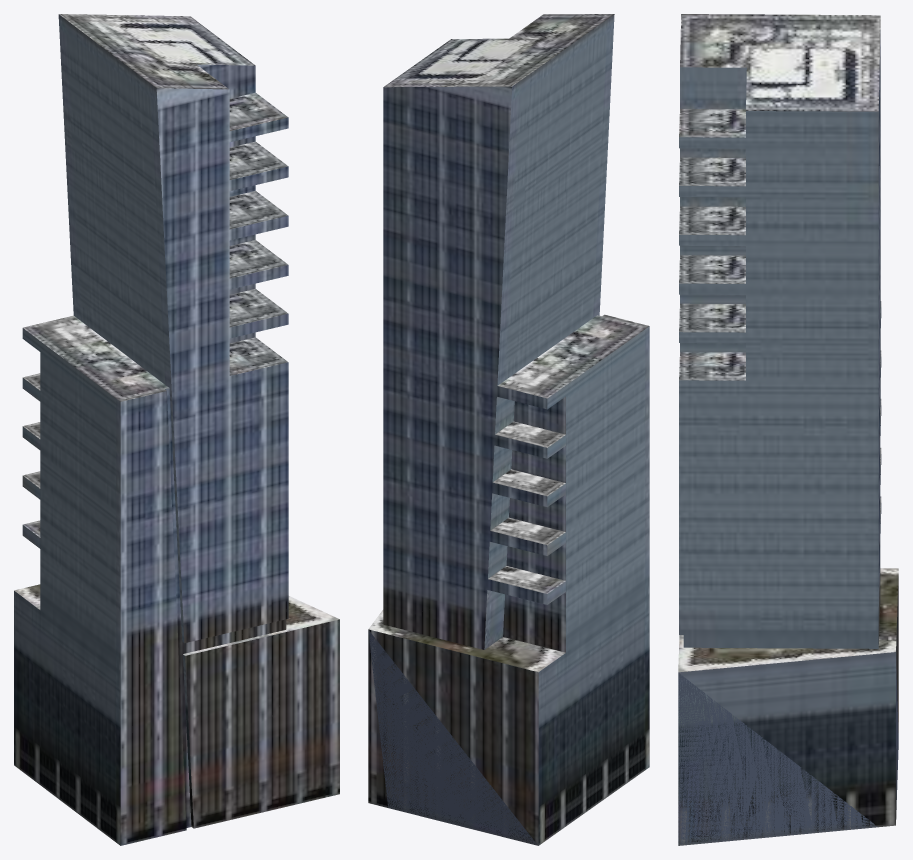
3 renders of one model, left to right at view 1: azimuth 30°, elevation 25°; view 2: azimuth 150°, elevation 25°; view 3: azimuth 270°, elevation 25°, orthographic.
Parts seen in each view (by area): view 1: b194; view 2: b194; view 3: b194.
Part boxes in pixels (x1,y1,x2,y2): b194: (14, 14, 339, 845); b194: (368, 14, 649, 845); b194: (678, 14, 898, 845).
Bounding box in the file's own units: 55.91 × 184 × 49.43.
Materials: 1 (1 with a texture image).
